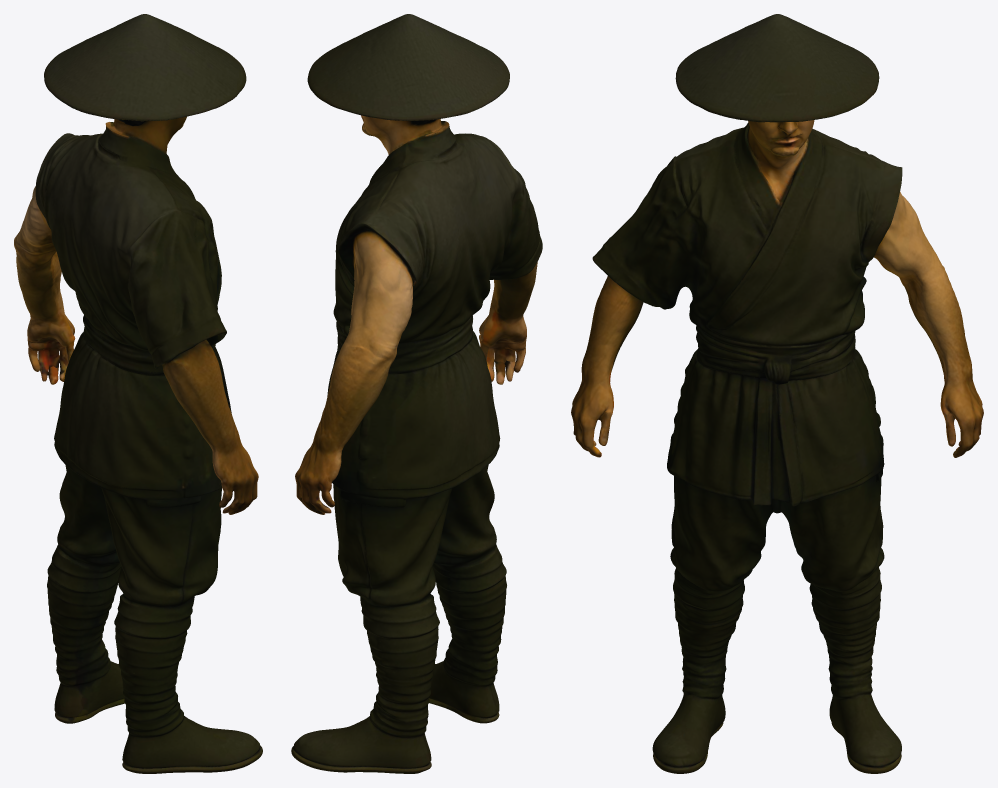
File: samurai+outfit+3d+model.fbx
3 views of the same model, side by side, from view 1: azimuth 30°, elevation 25°; view 2: azimuth 150°, elevation 25°; view 3: azimuth 270°, elevation 25° (orthographic).
Parts seen in each view (by area): view 1: tripo_node_02084552; view 2: tripo_node_02084552; view 3: tripo_node_02084552.
Boxes of the visible parts, x1=… form: tripo_node_02084552: x1=14, y1=14, x2=262, y2=773; tripo_node_02084552: x1=291, y1=14, x2=542, y2=773; tripo_node_02084552: x1=571, y1=14, x2=983, y2=773.
Size of the model in its own units: 0.2527 by 1 by 0.5131.
Materials: 1 (1 with a texture image).
